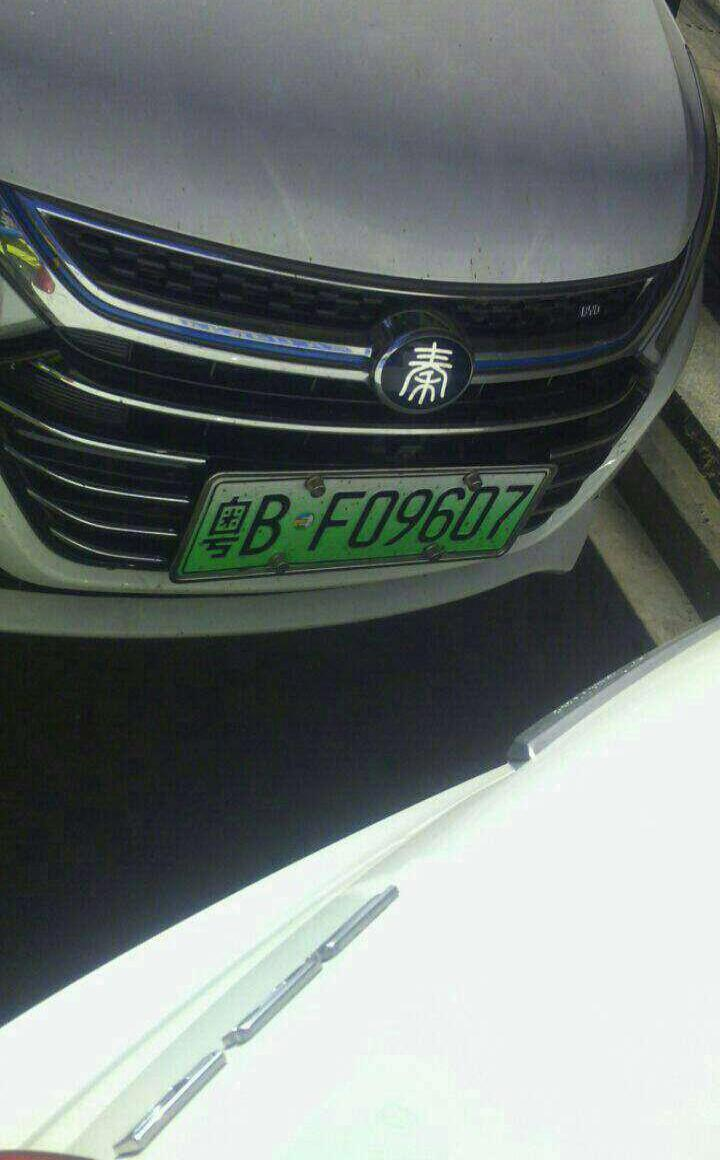car_id: (169, 472, 547, 573)
